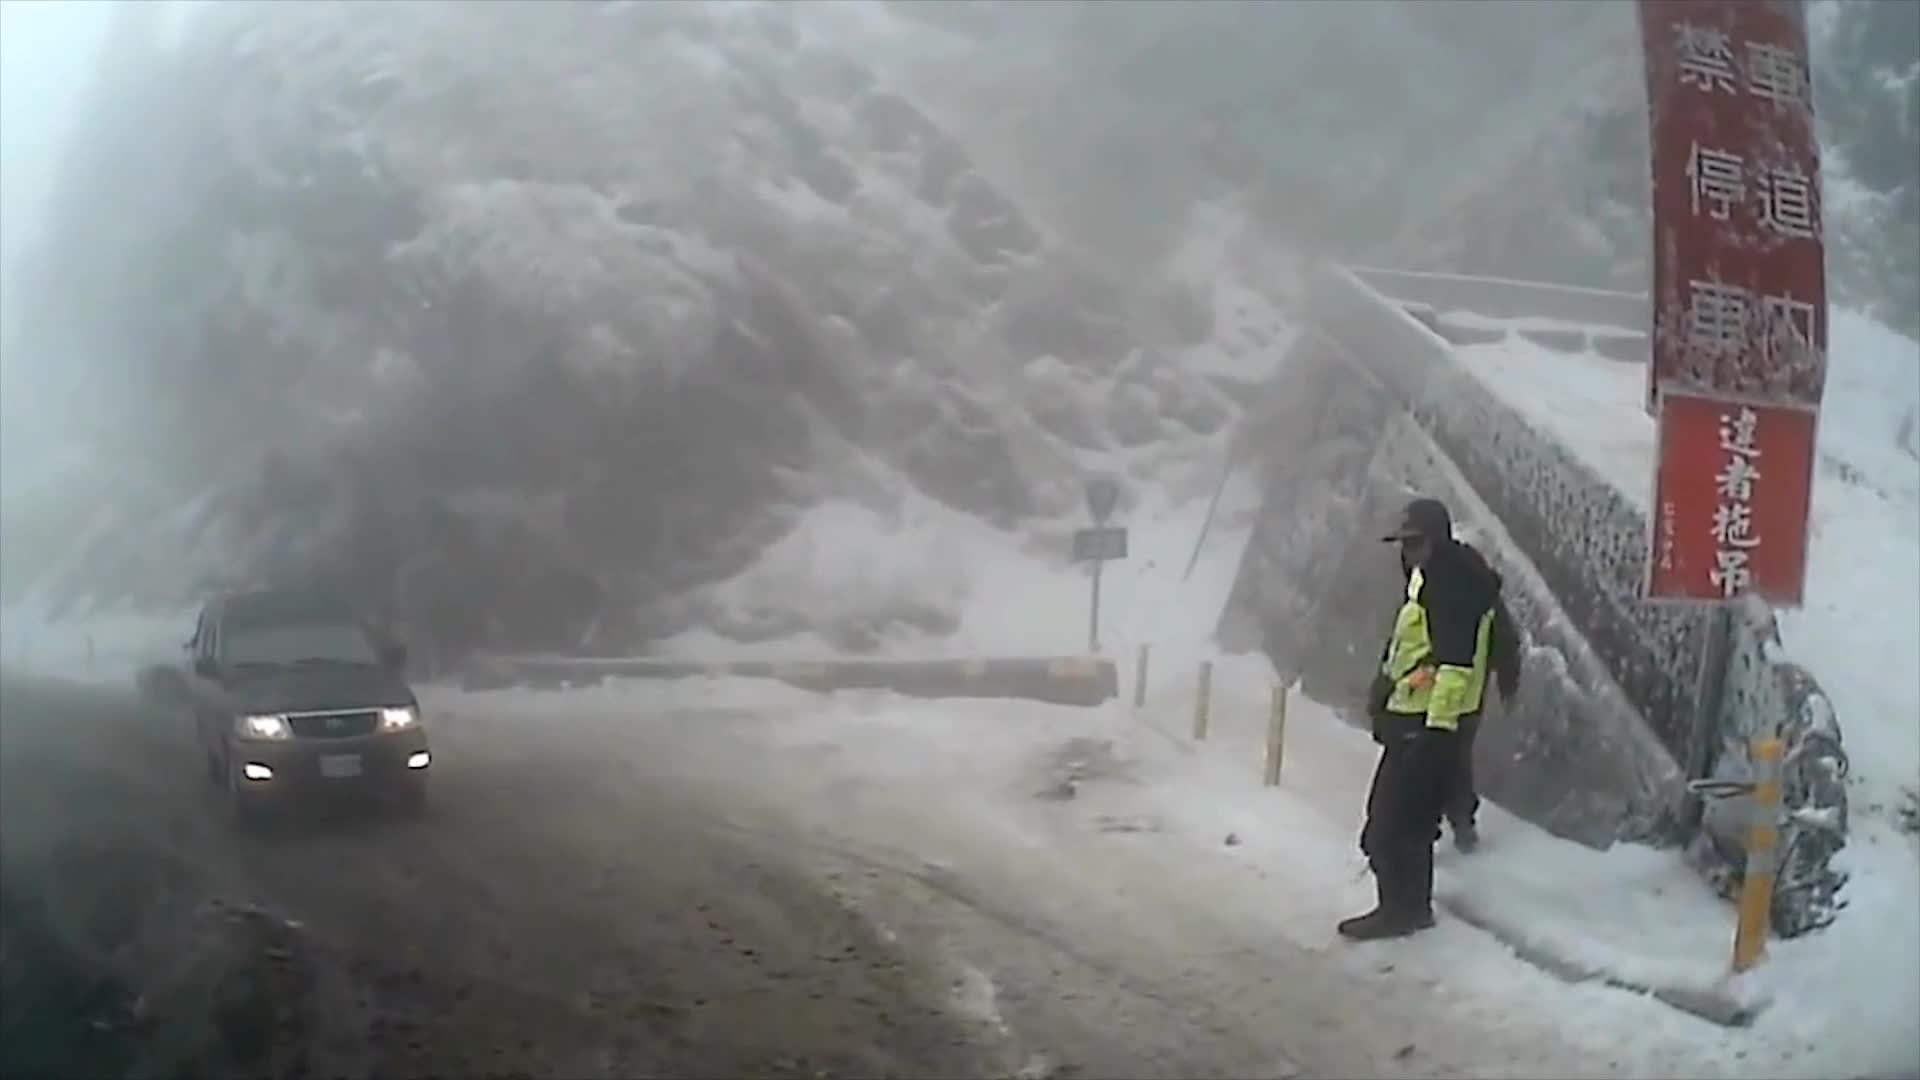pedestrian: (1353, 500, 1522, 952)
vehicle: (185, 586, 432, 827)
